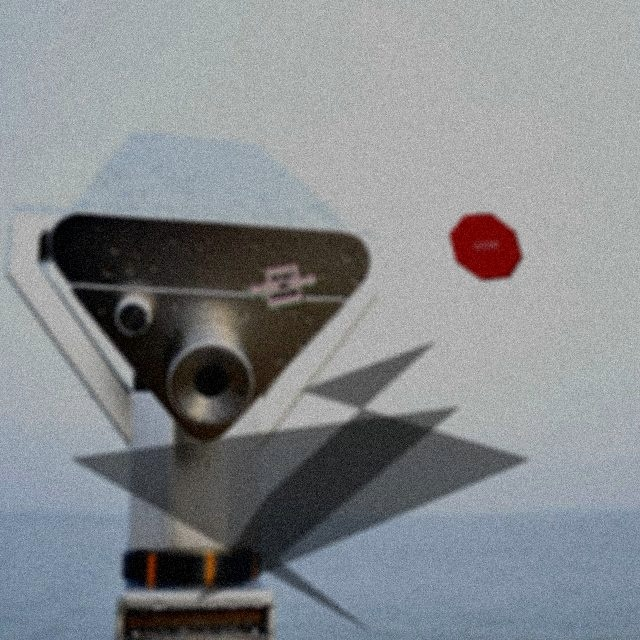DO_NOT_GO_AROUND: (246, 263, 319, 310)
STOP: (449, 214, 522, 280)
